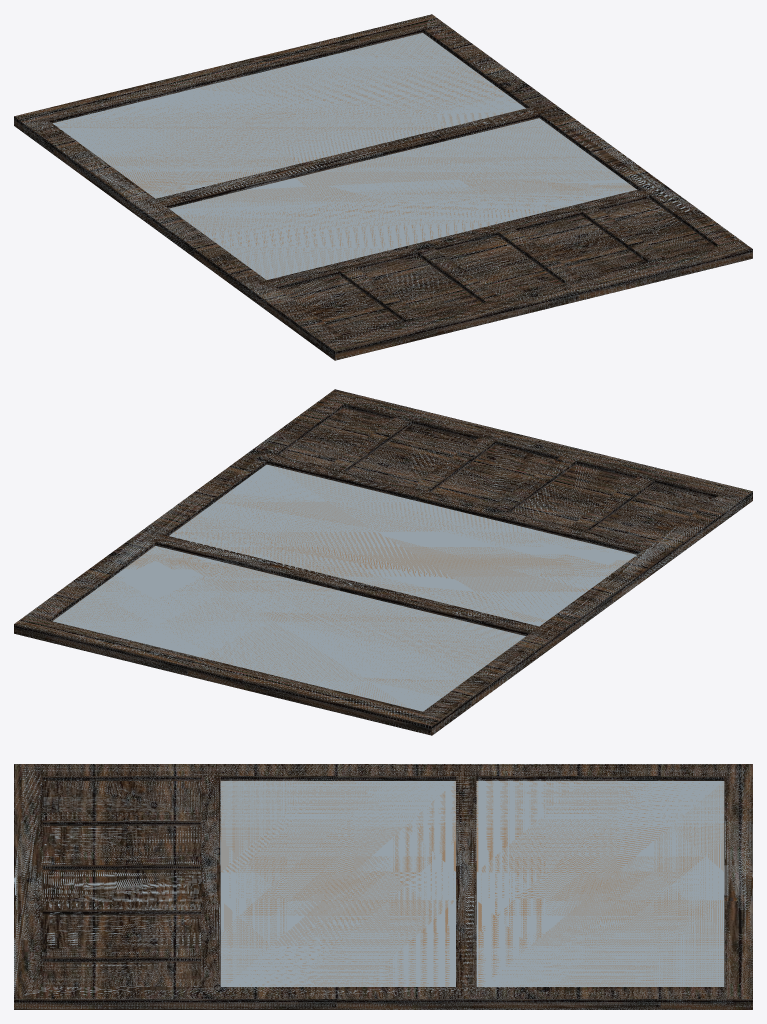
Rendered from shoji_long001.fbx.
The picture shows the model from 3 angles, top to bottom: view 1: azimuth 30°, elevation 25°; view 2: azimuth 150°, elevation 25°; view 3: azimuth 270°, elevation 25°; orthographic projection. The views are drawn at different scales.
Visible parts, largest first — view 1: Model; view 2: Model; view 3: Model.
Part boxes in pixels (x1,y1,x2,y2): Model: (14,14,752,360); Model: (14,389,752,735); Model: (14,764,752,1009).
Size of the model in its own units: 165 by 3.62 by 220.
